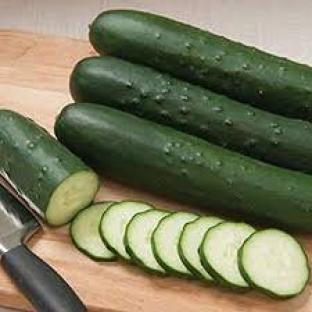Cucumber: (56, 104, 311, 231), (71, 56, 311, 172), (91, 10, 311, 119), (0, 111, 98, 225), (239, 229, 310, 298), (200, 222, 255, 289), (100, 201, 153, 260), (152, 212, 198, 275), (179, 216, 223, 281), (124, 209, 167, 274), (70, 202, 115, 260)
